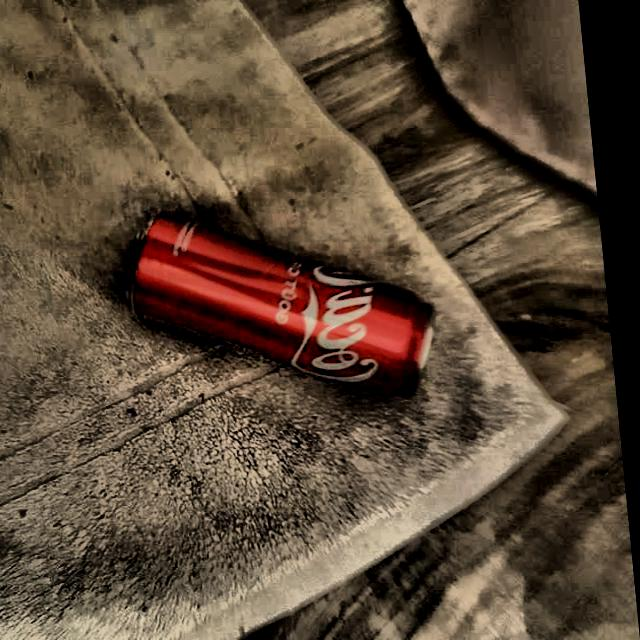can: (123, 206, 454, 404)
